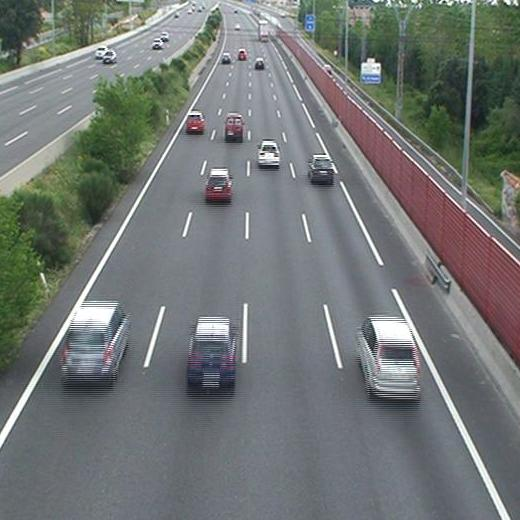car: (358, 318, 421, 398), (61, 305, 128, 379), (187, 318, 234, 385), (207, 169, 231, 198), (308, 156, 333, 180), (258, 142, 279, 165), (186, 113, 203, 132), (254, 58, 264, 69), (221, 53, 231, 63), (237, 49, 245, 59)
van: (224, 113, 243, 138)
